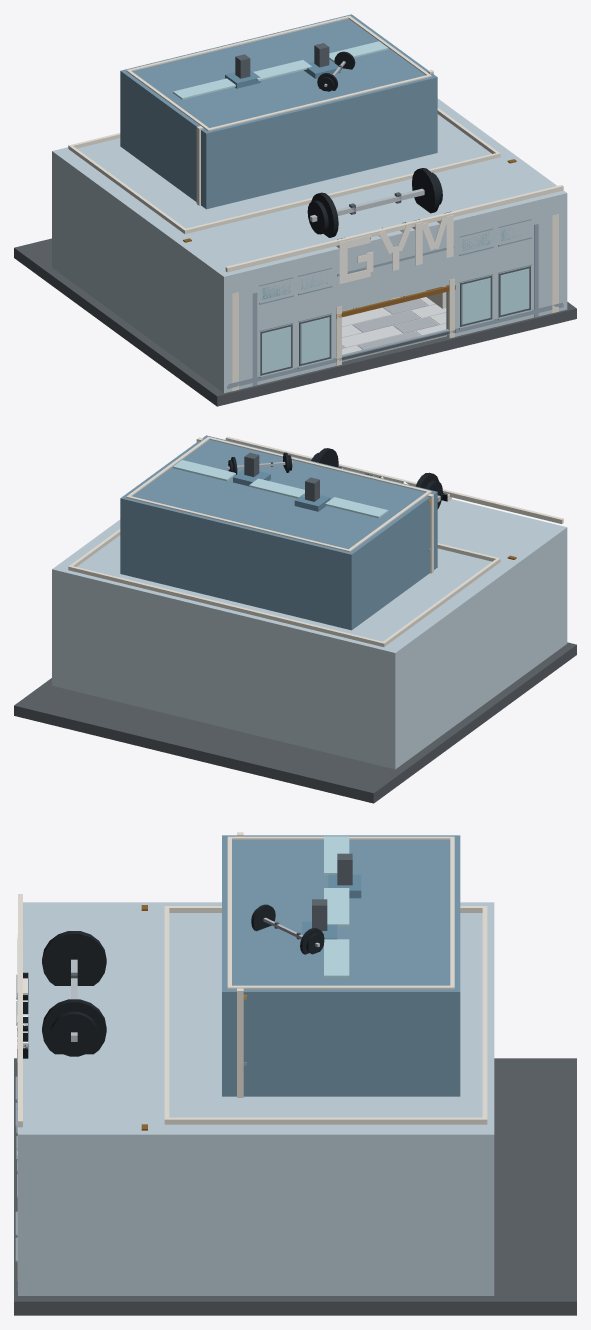
File: gym-building-large.glb
3 views of the same model, one above another, from view 1: azimuth 30°, elevation 25°; view 2: azimuth 150°, elevation 25°; view 3: azimuth 270°, elevation 25° (orthographic). The views are drawn at different scales.
Visible parts, largest first — view 1: gym_cutaway_roof, gym_shell, gym_cutaway_upper, gym_exterior_detail, gym_foundation, gym_interior, gym_cutaway_roof_34, gym_cutaway_roof_29, gym_cutaway_roof_32, gym_cutaway_roof_33; view 2: gym_shell, gym_cutaway_roof, gym_cutaway_upper, gym_foundation, gym_exterior_detail; view 3: gym_cutaway_roof, gym_shell, gym_foundation, gym_cutaway_upper, gym_cutaway_roof_32, gym_exterior_detail, gym_cutaway_roof_35, gym_cutaway_roof_34.
Boxes of the visible parts, x1,y1,x2,y2 form: gym_cutaway_roof: (56, 14, 565, 281); gym_shell: (52, 99, 567, 393); gym_cutaway_upper: (120, 14, 437, 209); gym_exterior_detail: (225, 185, 563, 391); gym_foundation: (14, 238, 576, 406); gym_interior: (342, 297, 446, 361); gym_cutaway_roof_34: (412, 168, 439, 213); gym_cutaway_roof_29: (310, 188, 424, 222); gym_cutaway_roof_32: (311, 192, 338, 237); gym_cutaway_roof_33: (307, 200, 328, 234); gym_shell: (52, 499, 567, 769); gym_cutaway_roof: (52, 436, 566, 657); gym_cutaway_upper: (120, 435, 437, 630); gym_foundation: (14, 642, 576, 803); gym_exterior_detail: (225, 436, 563, 523); gym_cutaway_roof: (18, 835, 494, 1141); gym_shell: (18, 902, 494, 1295); gym_foundation: (14, 1058, 576, 1315); gym_cutaway_upper: (222, 832, 460, 1097); gym_cutaway_roof_32: (42, 931, 106, 985); gym_exterior_detail: (15, 894, 28, 1289); gym_cutaway_roof_35: (50, 1011, 97, 1056); gym_cutaway_roof_34: (42, 999, 106, 1054).
Size of the model in its own units: 22.7 by 13.74 by 22.2.
